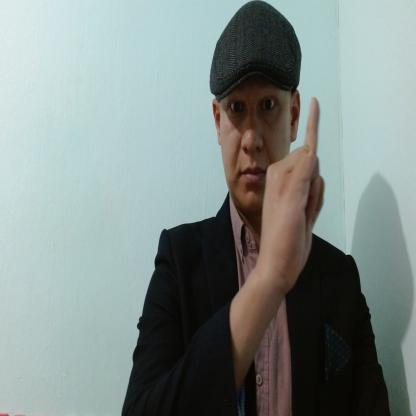I: (260, 96, 324, 292)
